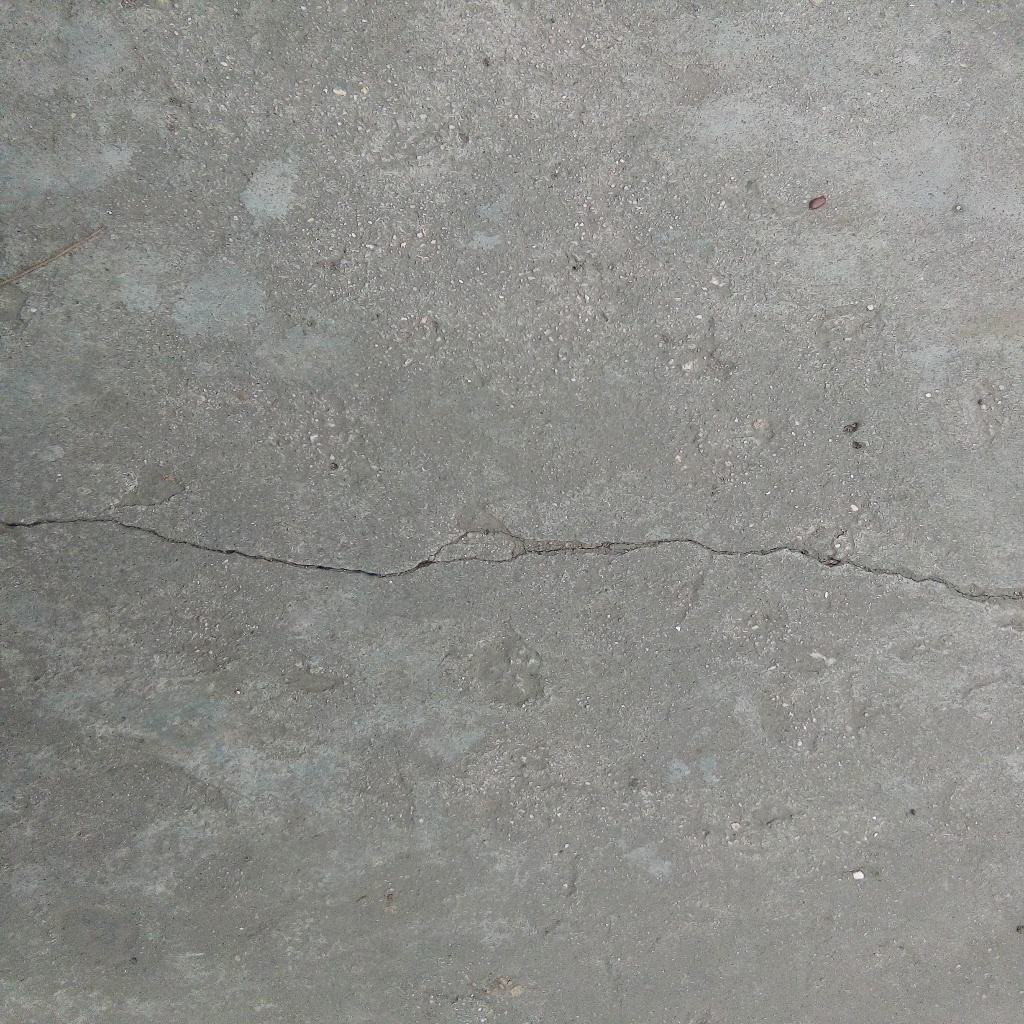Crack: (1, 515, 1024, 606)
